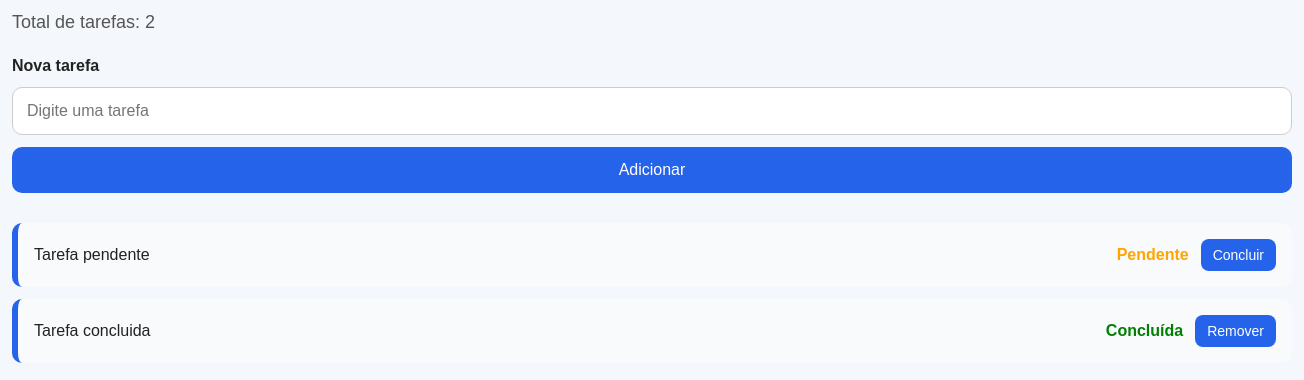
Test case: PainelTarefas › deve marcar uma tarefa pendente como concluida
This screenshot has width=1304, height=380.
Expected: the list item "Tarefa pendente" is shown, [34,246,150,263]
Expected: the text "Pendente" is shown, [1117,246,1189,264]
Click the button "Concluir" at (1238,255), box [1201,239,1276,271]
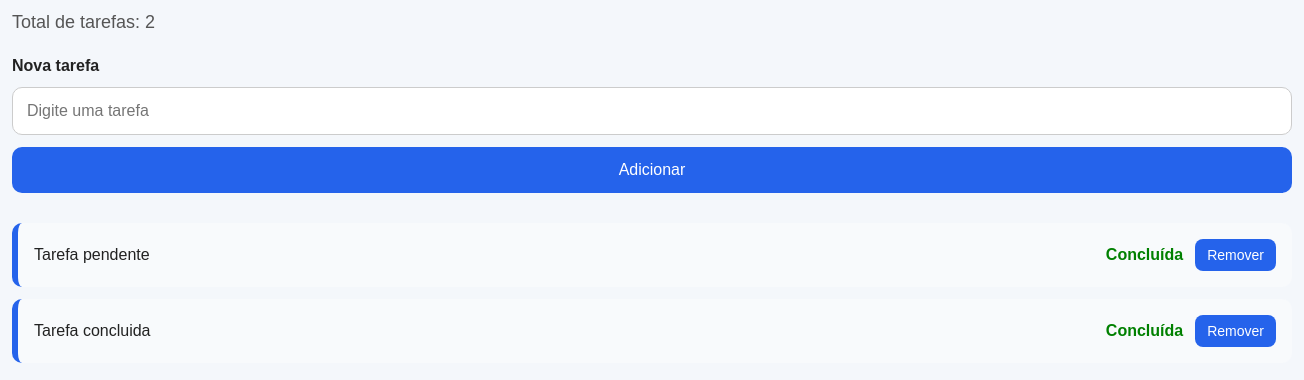
Expected: the text "Concluída" in the row of "Tarefa pendente" is shown, [1106,246,1183,263]
Expected: the button "Remover" in the row of "Tarefa pendente" is shown, [1195,239,1276,271]
